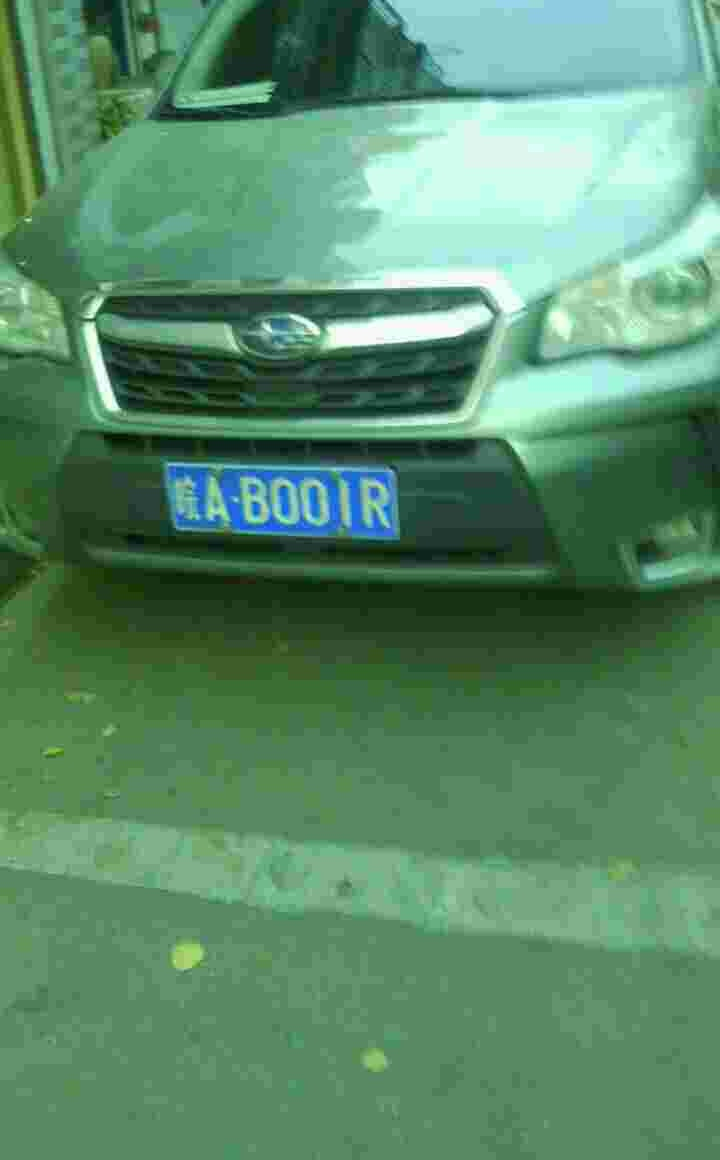plate: (162, 459, 405, 543)
